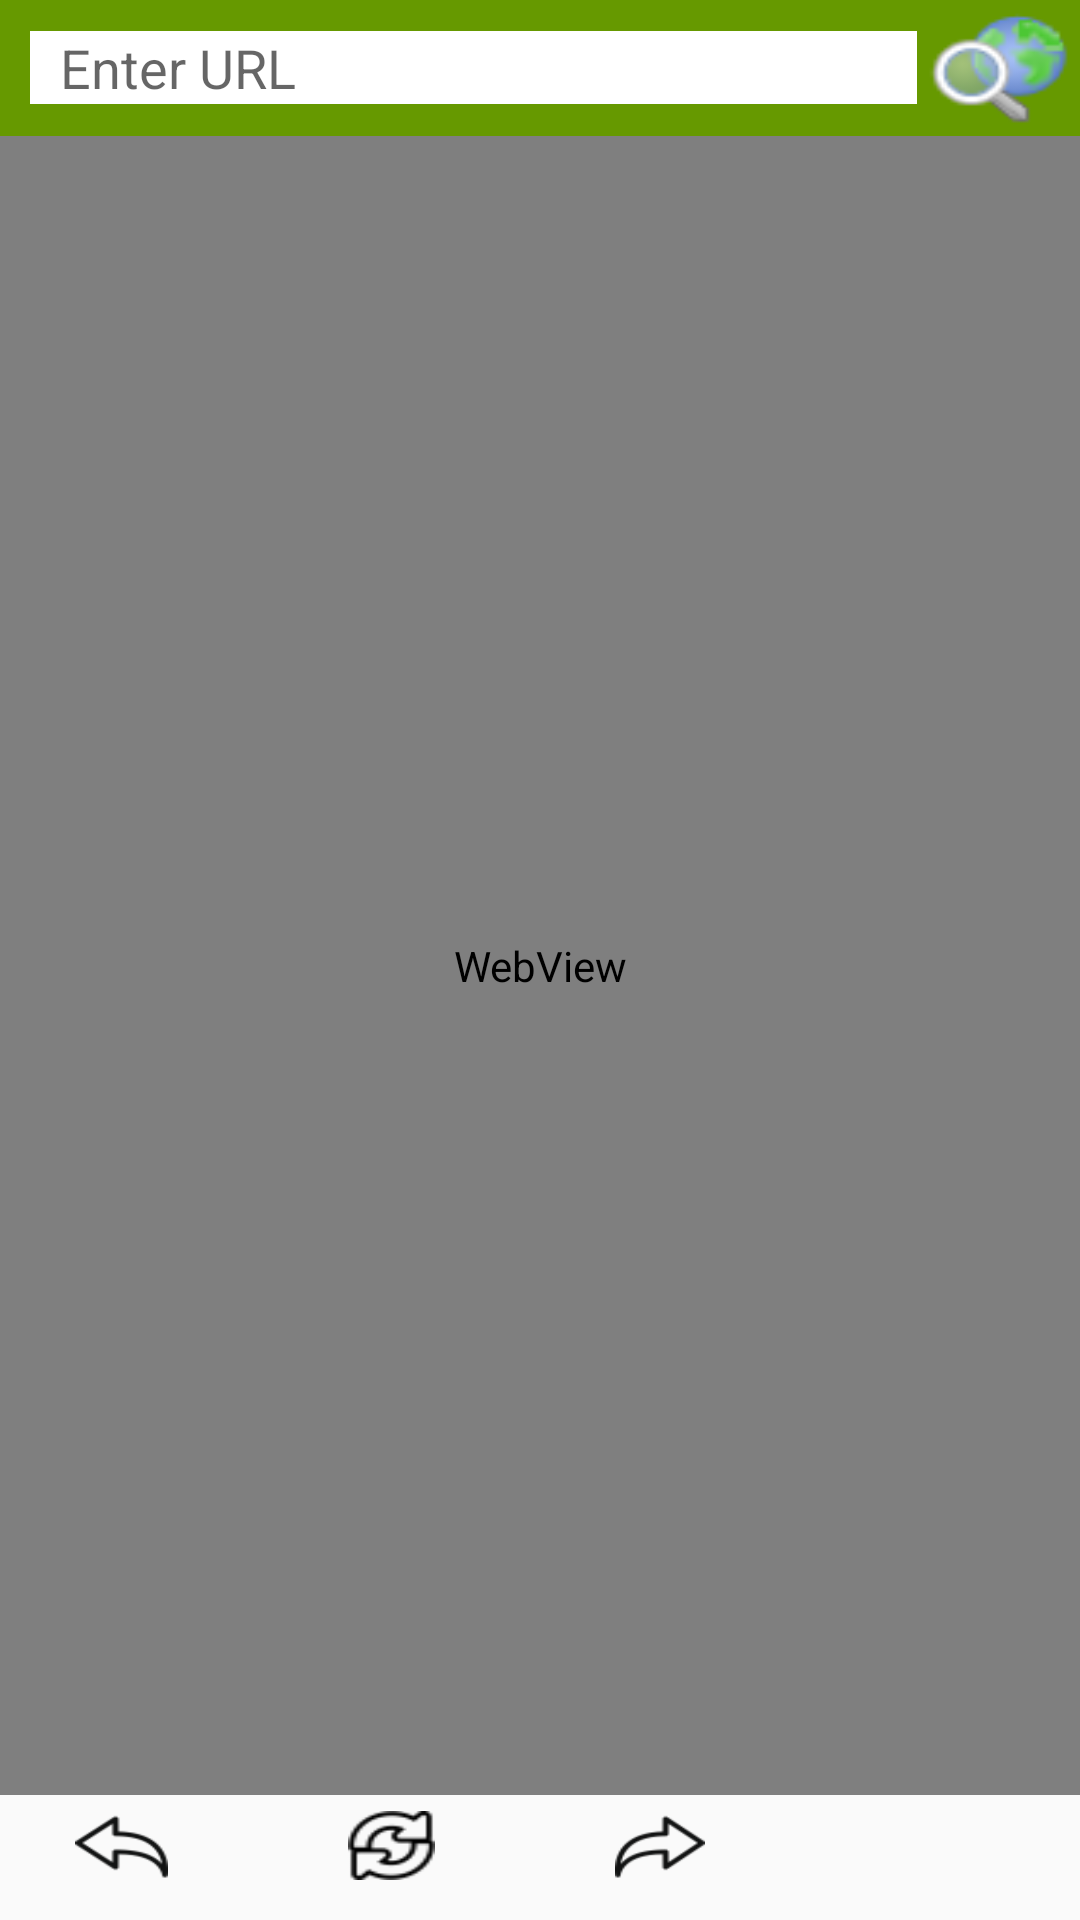

Point at icon controls on the screen. Image size 1080*1920, points as point (x, y).
backarrow: point (121, 1847)
forward: point (660, 1847)
reload: point (391, 1845)
search: point (998, 68)
